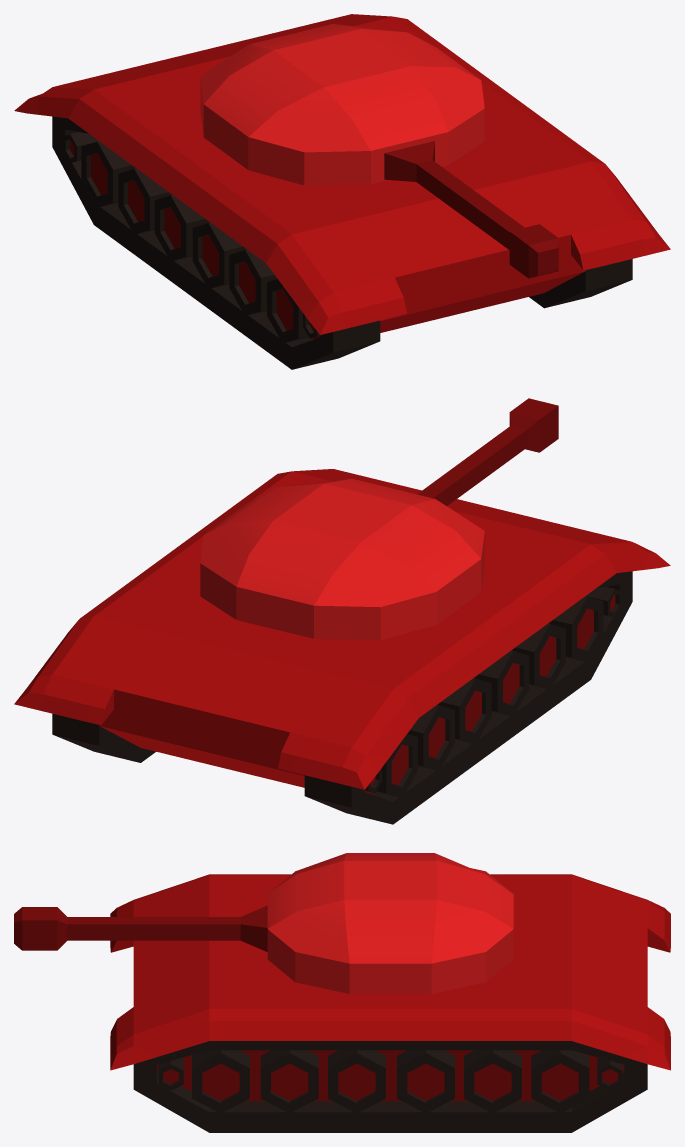
The model's file is Tiny_Tank_Red.fbx.
3 renders of one model, top to bottom at view 1: azimuth 30°, elevation 25°; view 2: azimuth 150°, elevation 25°; view 3: azimuth 270°, elevation 25°, orthographic. The views are drawn at different scales.
Visible parts, largest first — view 1: Tank_Red_Base, Tank_Red_Top, Tank_Red_Wheel_Big3, Tank_Red_Wheel_Back_Big, Tank_Red_Wheel_Big2, Tank_Red_Wheel_Big4, Tank_Red_Wheel_Big1, Tank_Red_Wheel_Front_Big, Tank_Red_Wheel_Back; view 2: Tank_Red_Base, Tank_Red_Top, Tank_Red_Wheel_Big2, Tank_Red_Wheel_Front_Big, Tank_Red_Wheel_Big1, Tank_Red_Wheel_Big3, Tank_Red_Wheel_Big4, Tank_Red_Wheel_Back_Big, Tank_Red_Wheel_Front; view 3: Tank_Red_Base, Tank_Red_Top, Tank_Red_Wheel_Big1, Tank_Red_Wheel_Back_Big, Tank_Red_Wheel_Big2, Tank_Red_Wheel_Big3, Tank_Red_Wheel_Big4, Tank_Red_Wheel_Front_Big, Tank_Red_Wheel_Back, Tank_Red_Wheel_Front.
Part boxes in pixels (bbox=[...]): Tank_Red_Base: bbox=[14, 14, 670, 369]; Tank_Red_Top: bbox=[200, 24, 558, 278]; Tank_Red_Wheel_Big3: bbox=[154, 195, 209, 261]; Tank_Red_Wheel_Back_Big: bbox=[81, 141, 135, 207]; Tank_Red_Wheel_Big2: bbox=[192, 222, 246, 289]; Tank_Red_Wheel_Big4: bbox=[118, 168, 172, 234]; Tank_Red_Wheel_Big1: bbox=[229, 249, 277, 315]; Tank_Red_Wheel_Front_Big: bbox=[267, 279, 308, 343]; Tank_Red_Wheel_Back: bbox=[63, 132, 98, 163]; Tank_Red_Base: bbox=[14, 469, 670, 824]; Tank_Red_Top: bbox=[200, 398, 558, 640]; Tank_Red_Wheel_Big2: bbox=[474, 650, 529, 716]; Tank_Red_Wheel_Front_Big: bbox=[548, 596, 603, 662]; Tank_Red_Wheel_Big1: bbox=[512, 623, 565, 689]; Tank_Red_Wheel_Big3: bbox=[437, 678, 491, 744]; Tank_Red_Wheel_Big4: bbox=[407, 704, 454, 771]; Tank_Red_Wheel_Back_Big: bbox=[376, 734, 417, 798]; Tank_Red_Wheel_Front: bbox=[586, 587, 621, 617]; Tank_Red_Base: bbox=[110, 874, 670, 1132]; Tank_Red_Top: bbox=[14, 853, 513, 993]; Tank_Red_Wheel_Big1: bbox=[260, 1050, 318, 1113]; Tank_Red_Wheel_Back_Big: bbox=[531, 1050, 589, 1113]; Tank_Red_Wheel_Big2: bbox=[328, 1050, 385, 1113]; Tank_Red_Wheel_Big3: bbox=[397, 1050, 454, 1113]; Tank_Red_Wheel_Big4: bbox=[464, 1050, 521, 1113]; Tank_Red_Wheel_Front_Big: bbox=[192, 1050, 249, 1113]; Tank_Red_Wheel_Back: bbox=[597, 1058, 622, 1090]; Tank_Red_Wheel_Front: bbox=[158, 1058, 183, 1090].
Size of the model in its own units: 1.23 by 0.6817 by 2.19.
